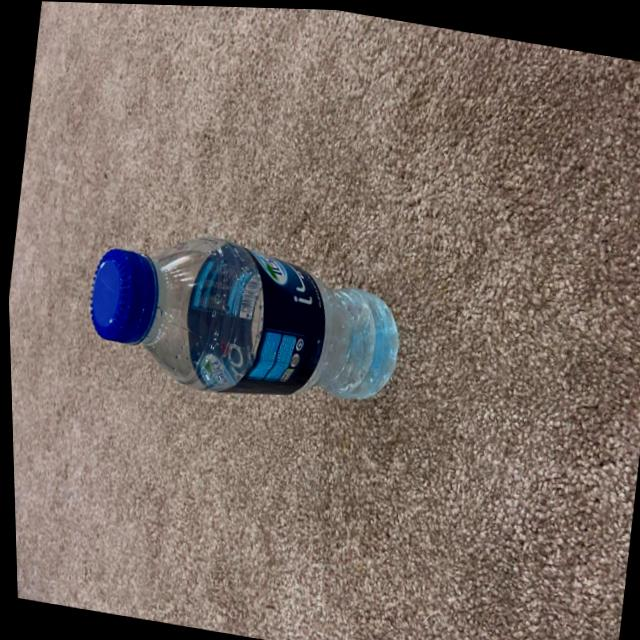anorganik: (75, 227, 432, 416)
